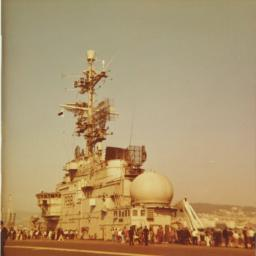Portanaves: (23, 38, 213, 249)
